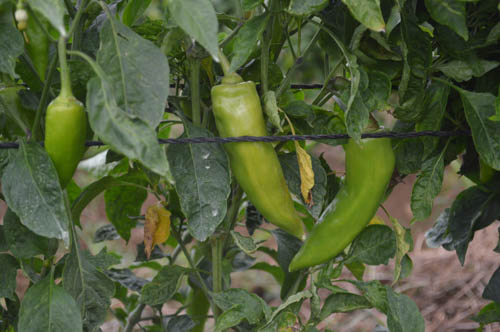ChiliPepper: (291, 134, 402, 276), (212, 81, 304, 238), (44, 104, 85, 189)
